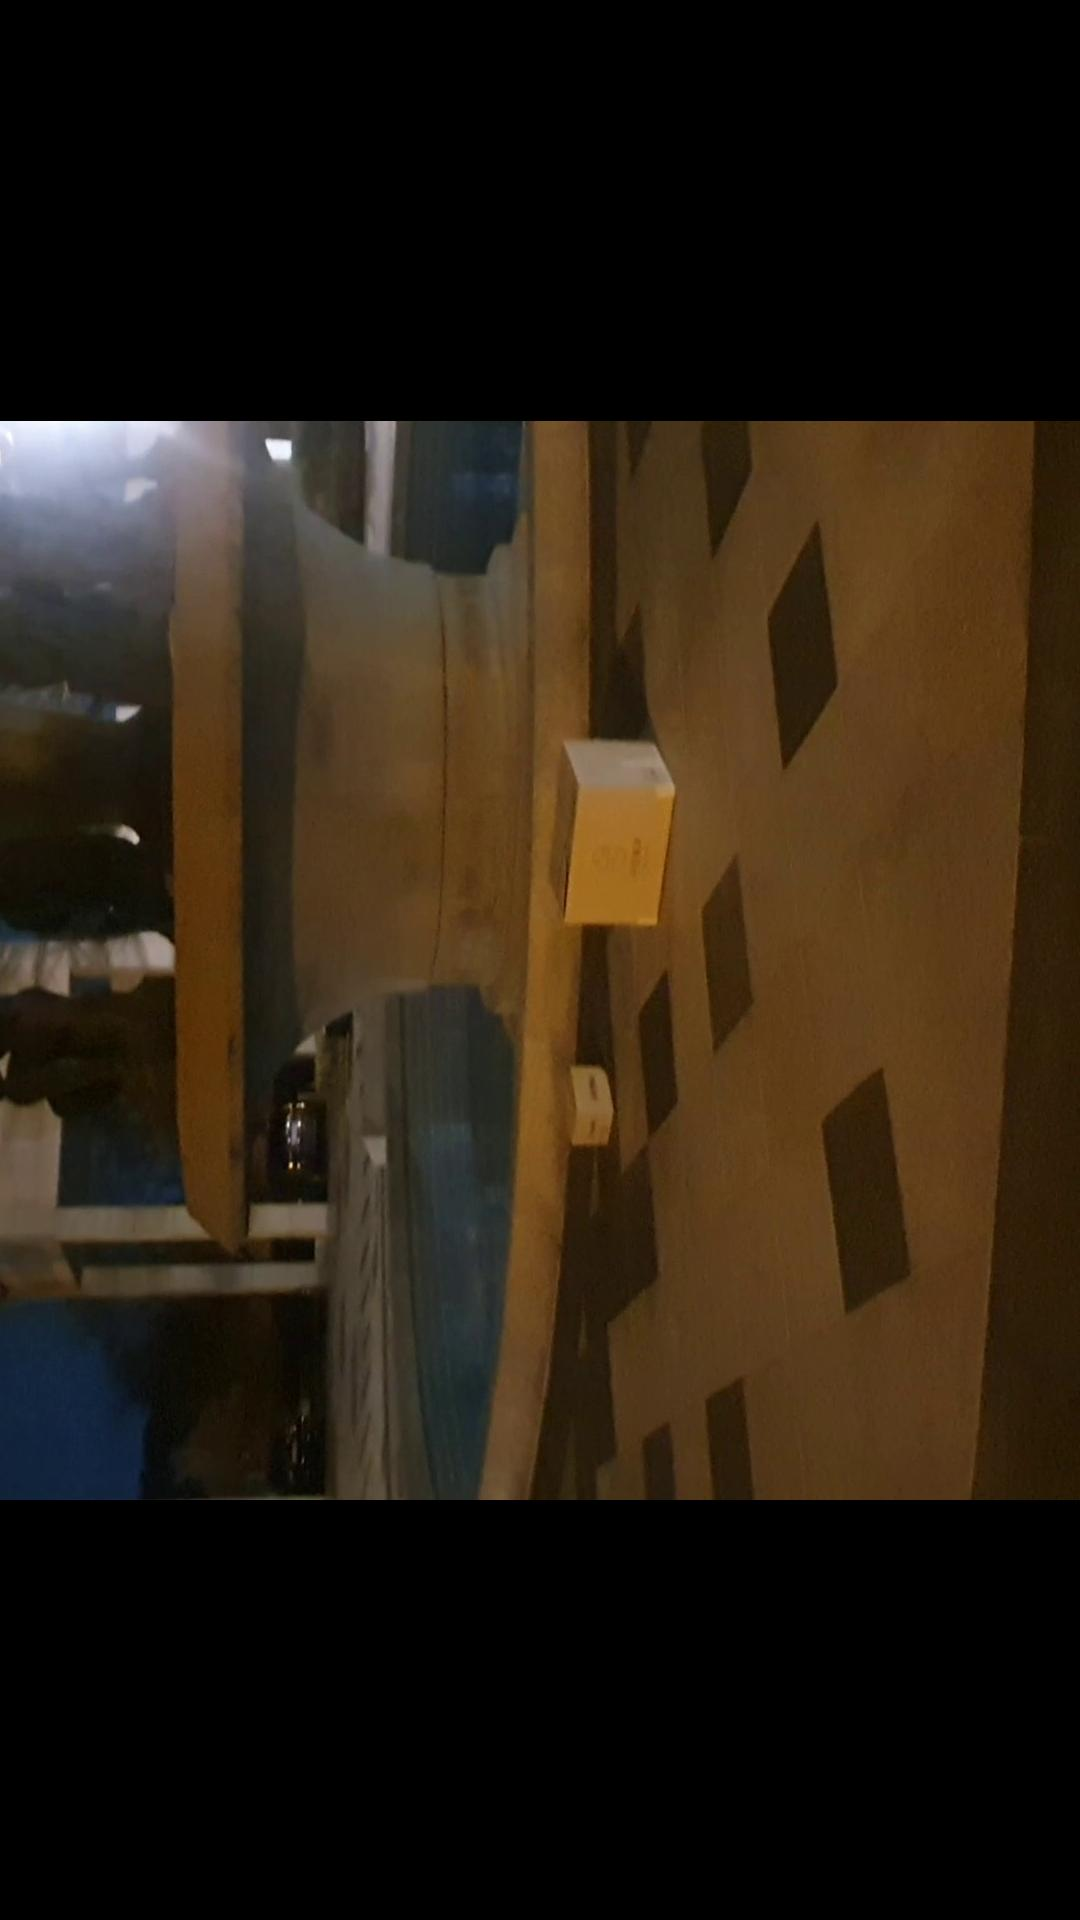Box: (543, 728, 684, 934), (545, 1063, 626, 1153)
